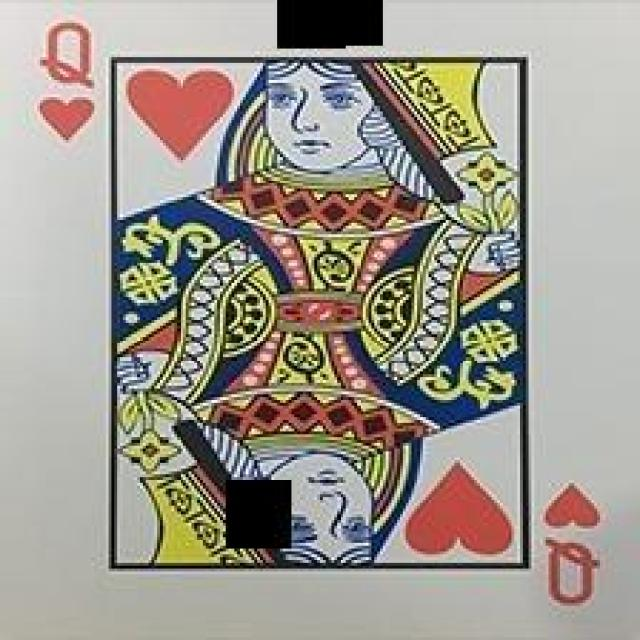Queen of hearts: (14, 7, 632, 631)
